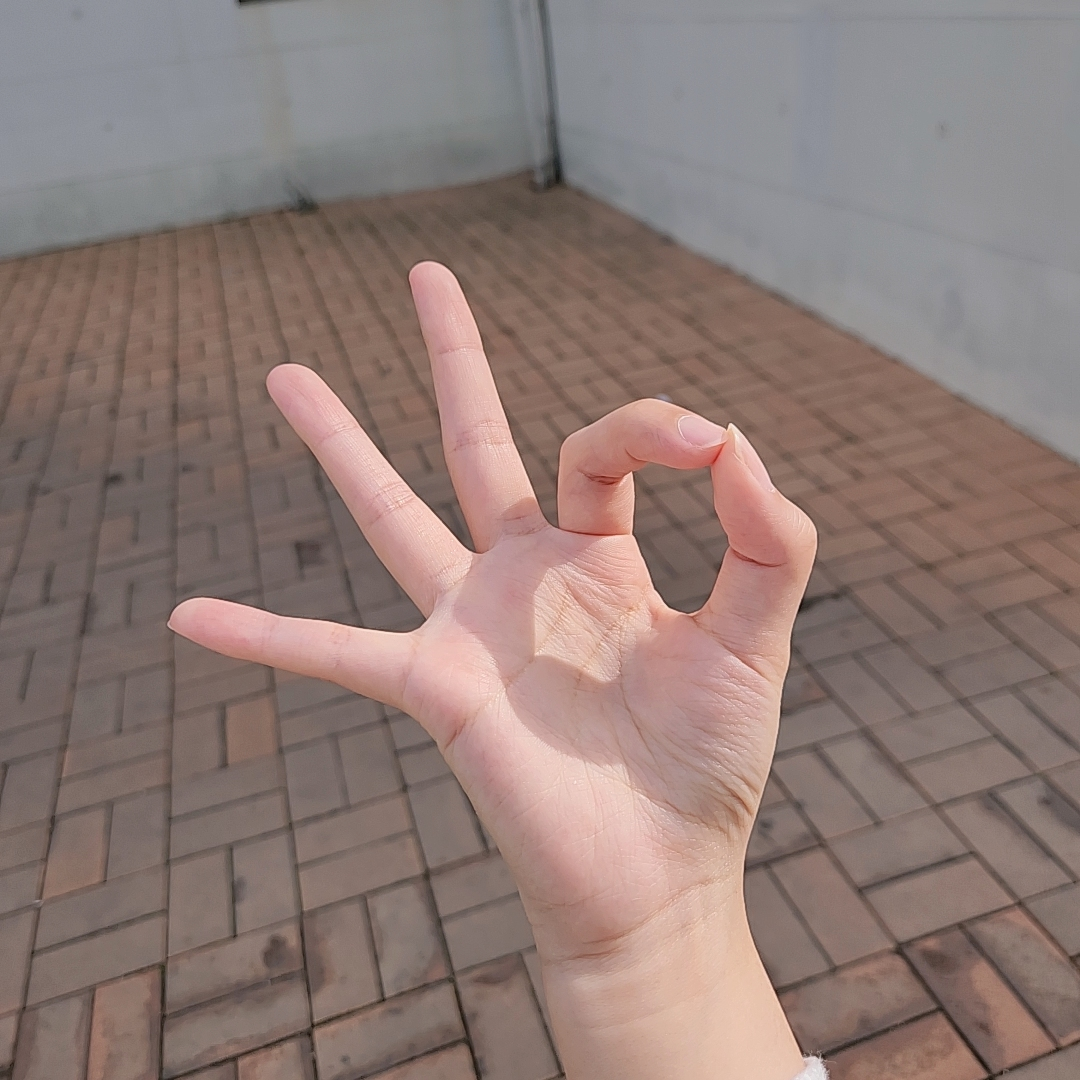see: (168, 259, 823, 906)
